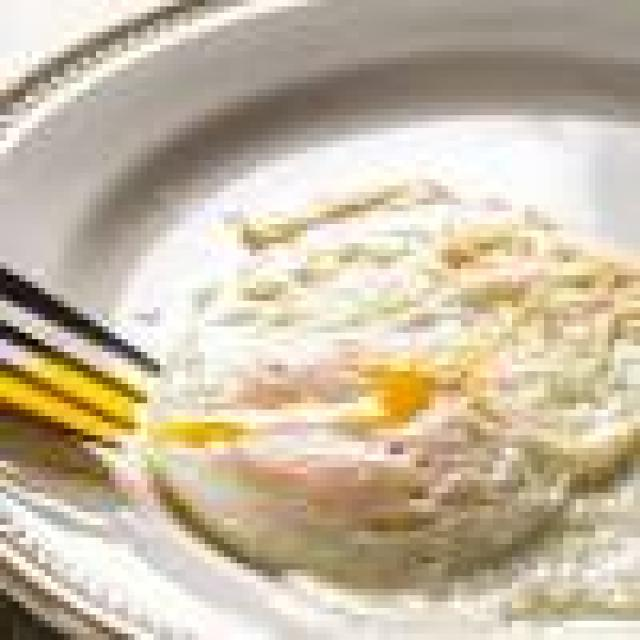Egg: (150, 180, 640, 587)
